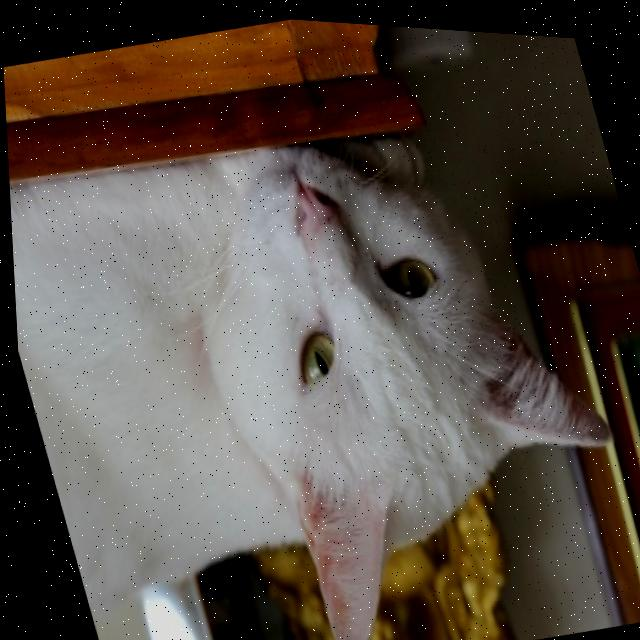Khao Manee: (2, 60, 640, 640)
